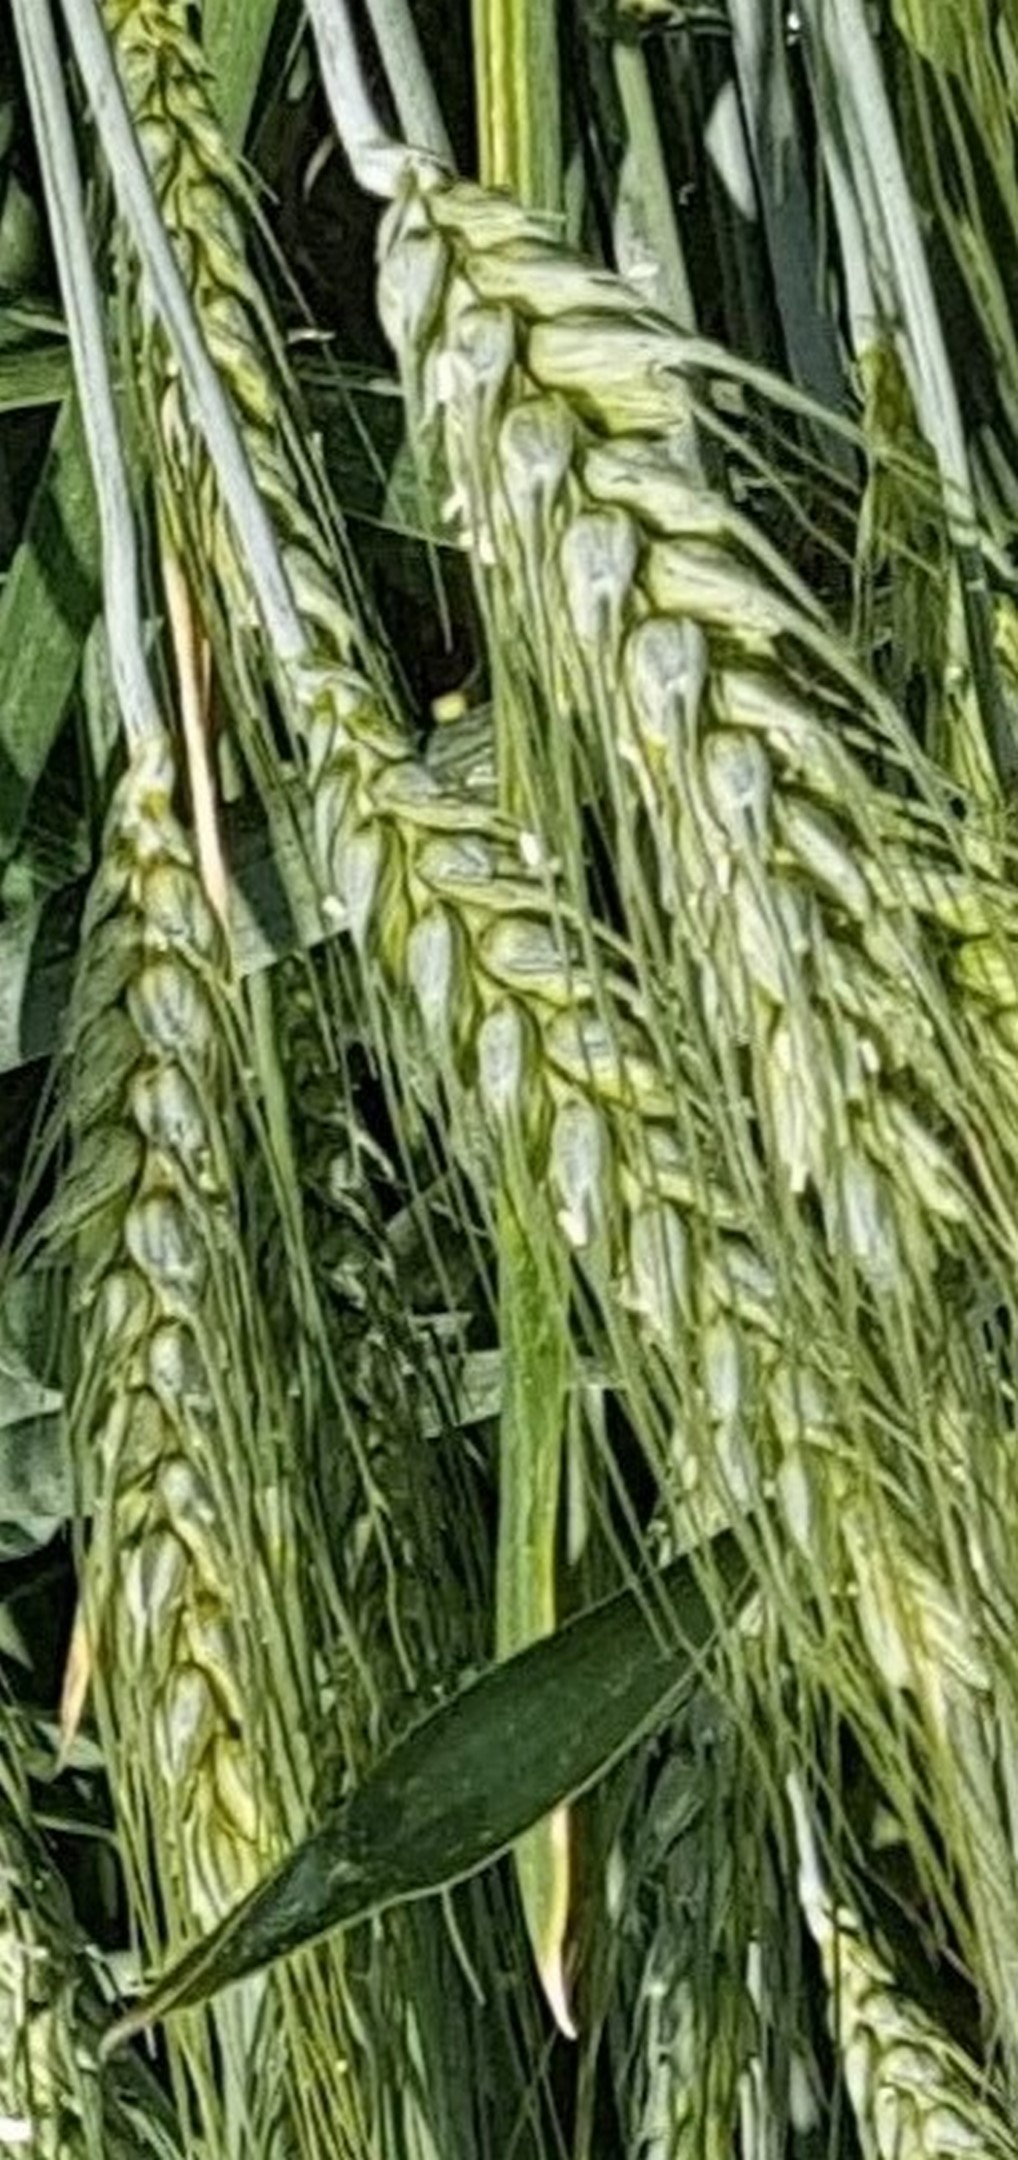Healthy Wheat: (331, 105, 1018, 1077), (45, 773, 354, 1908)
